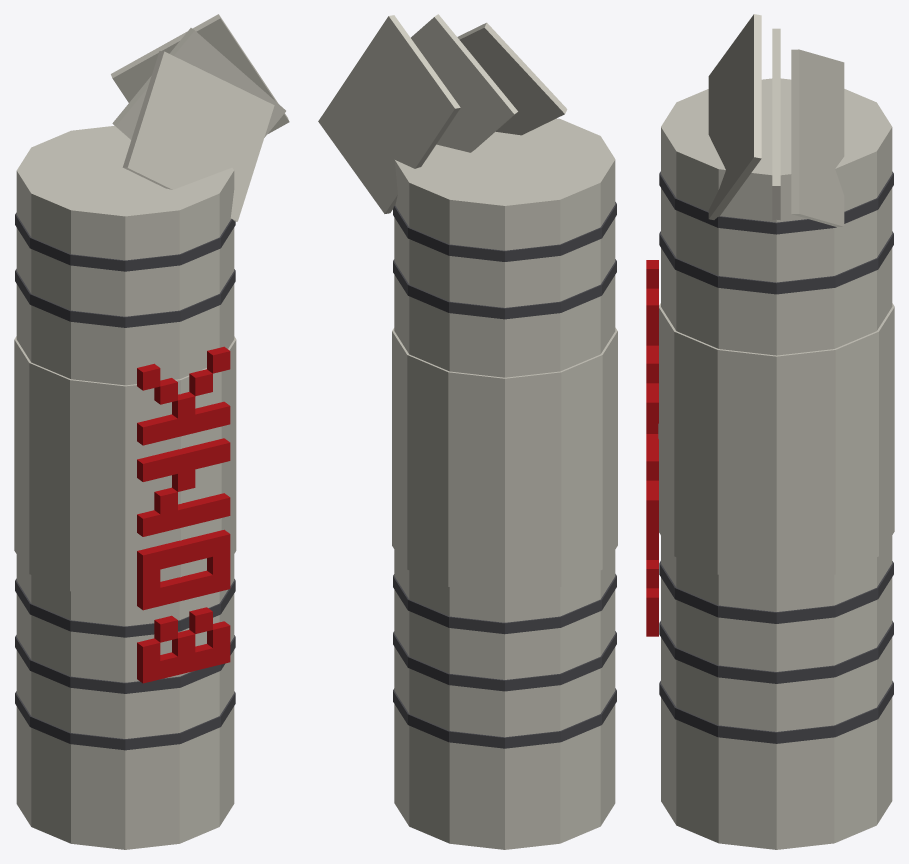
File: Newspaper.fbx
3 renders of one model, left to right at view 1: azimuth 30°, elevation 25°; view 2: azimuth 150°, elevation 25°; view 3: azimuth 270°, elevation 25°, orthographic. The views are drawn at different scales.
Visible parts, largest first — view 1: Newspaper; view 2: Newspaper; view 3: Newspaper.
Boxes of the visible parts, <box> form: Newspaper: <box>14,14,289,849</box>; Newspaper: <box>318,14,617,849</box>; Newspaper: <box>646,14,894,849</box>.
Bounding box in the file's own units: 0.4004 × 1.08 × 0.3008.
